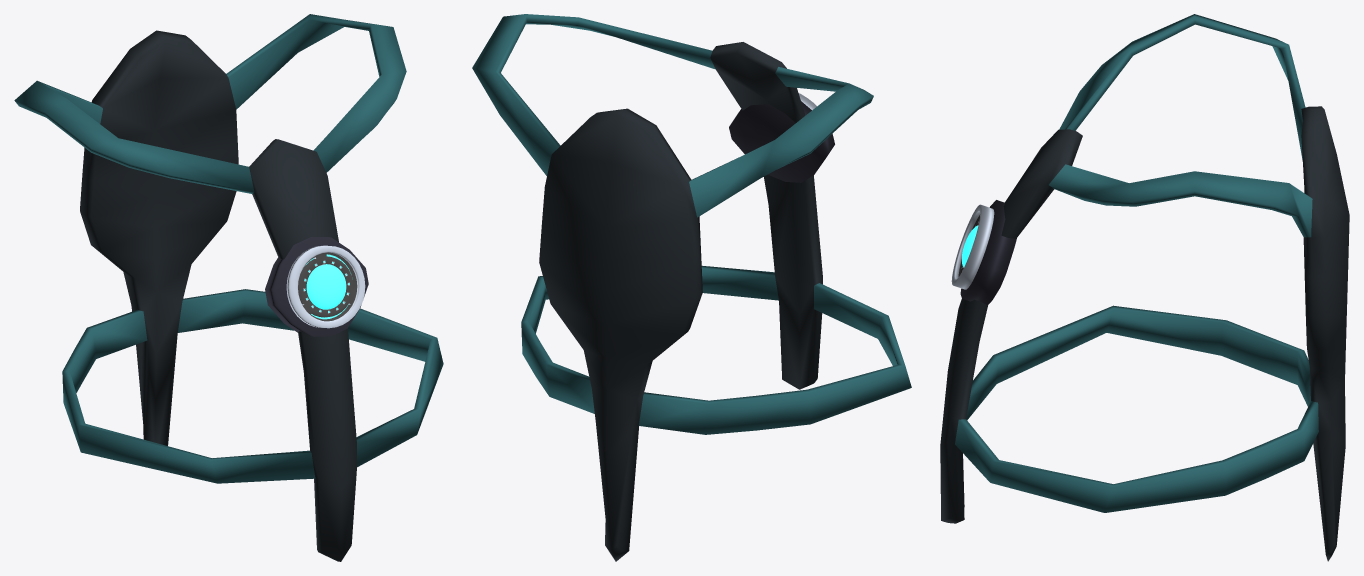
Rendered from exo_duster_01.fbx.
3 views of the same model, side by side, from view 1: azimuth 30°, elevation 25°; view 2: azimuth 150°, elevation 25°; view 3: azimuth 270°, elevation 25° (orthographic). The views are drawn at different scales.
Visible parts, largest first — view 1: EXOSUIT.002, reactor.004; view 2: EXOSUIT.002, reactor.004; view 3: EXOSUIT.002, reactor.004.
Part boxes in pixels (x1=…): EXOSUIT.002: x1=14, y1=14, x2=443, y2=561; reactor.004: x1=265, y1=237, x2=368, y2=336; EXOSUIT.002: x1=472, y1=14, x2=911, y2=561; reactor.004: x1=729, y1=93, x2=834, y2=182; EXOSUIT.002: x1=940, y1=14, x2=1349, y2=561; reactor.004: x1=951, y1=200, x2=1016, y2=305.
Size of the model in its own units: 56.57 by 67.15 by 53.24.
